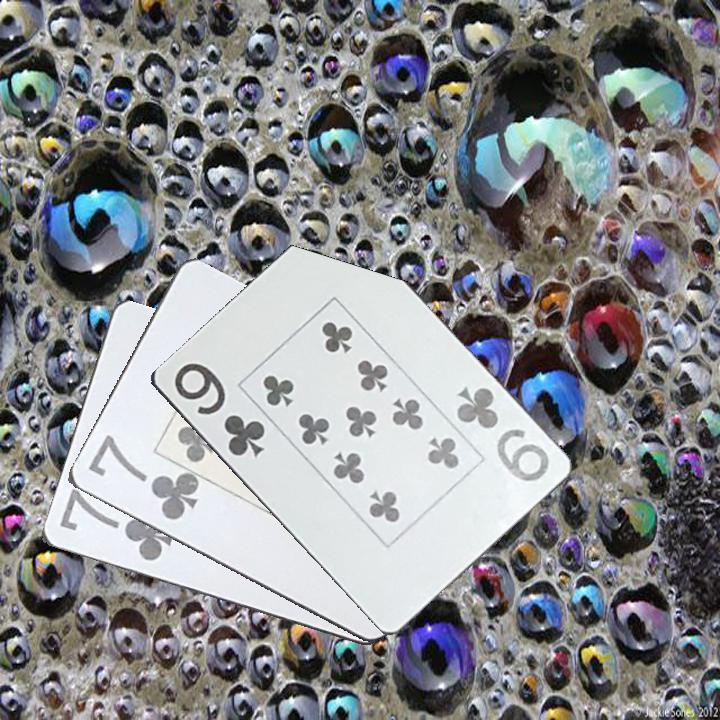7c: (84, 432, 201, 524), (55, 487, 176, 565)
9c: (452, 383, 552, 485), (169, 358, 268, 461)
